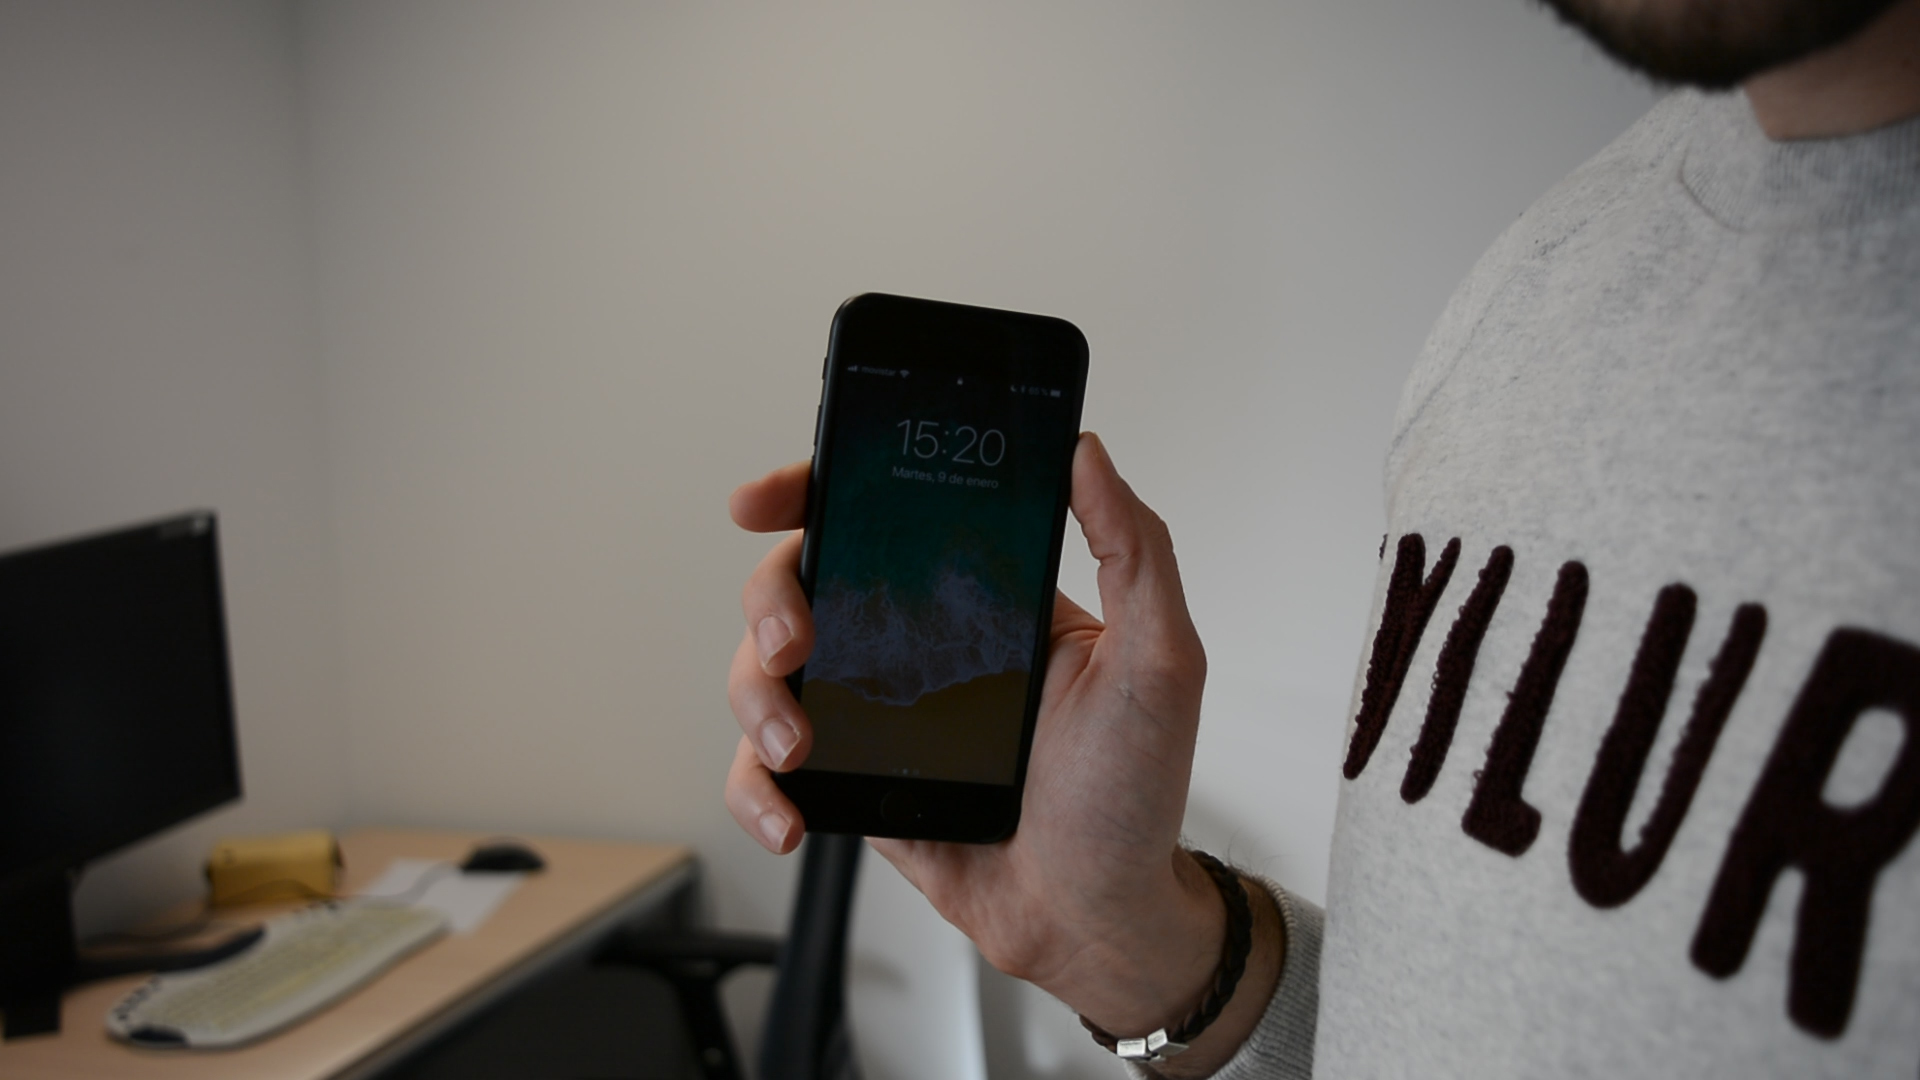smartphone: (761, 289, 1093, 849)
